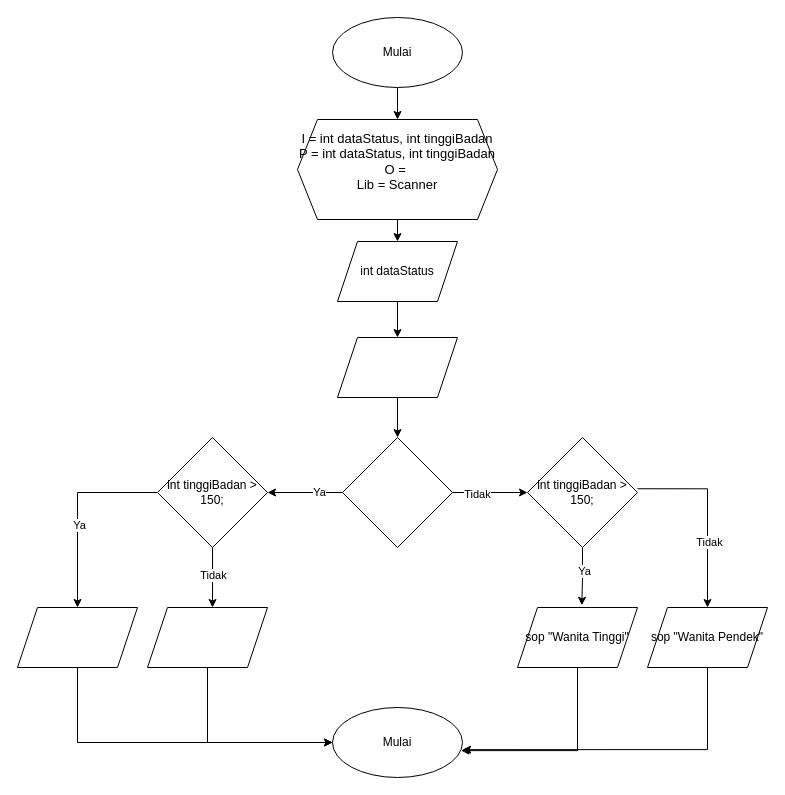
Image size: 785x795. Some labels were removed from this diagram. Each missing label, with the centre of its shape:
int dataStatus == 1;: pixel 397 492
int tinggiBadan: pixel 397 367
sop "Pria Pendek": pixel 207 637
sop "Pria Tinggi": pixel 77 637
